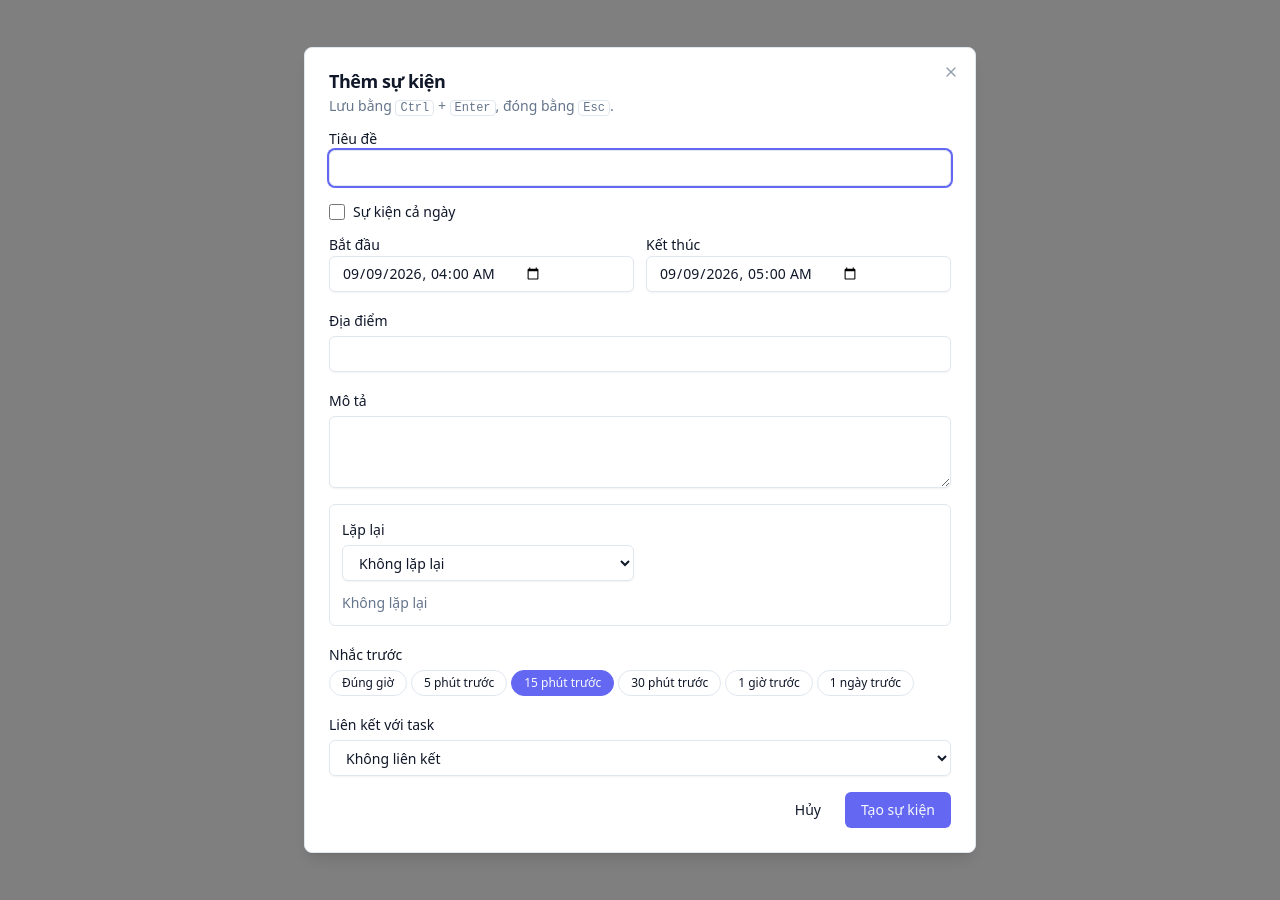
Test: EventFormDialog › tiêu đề rỗng hiện lỗi inline và KHÔNG gọi API
Click the button "Tạo sự kiện": click(898, 810) [845,792,951,828]
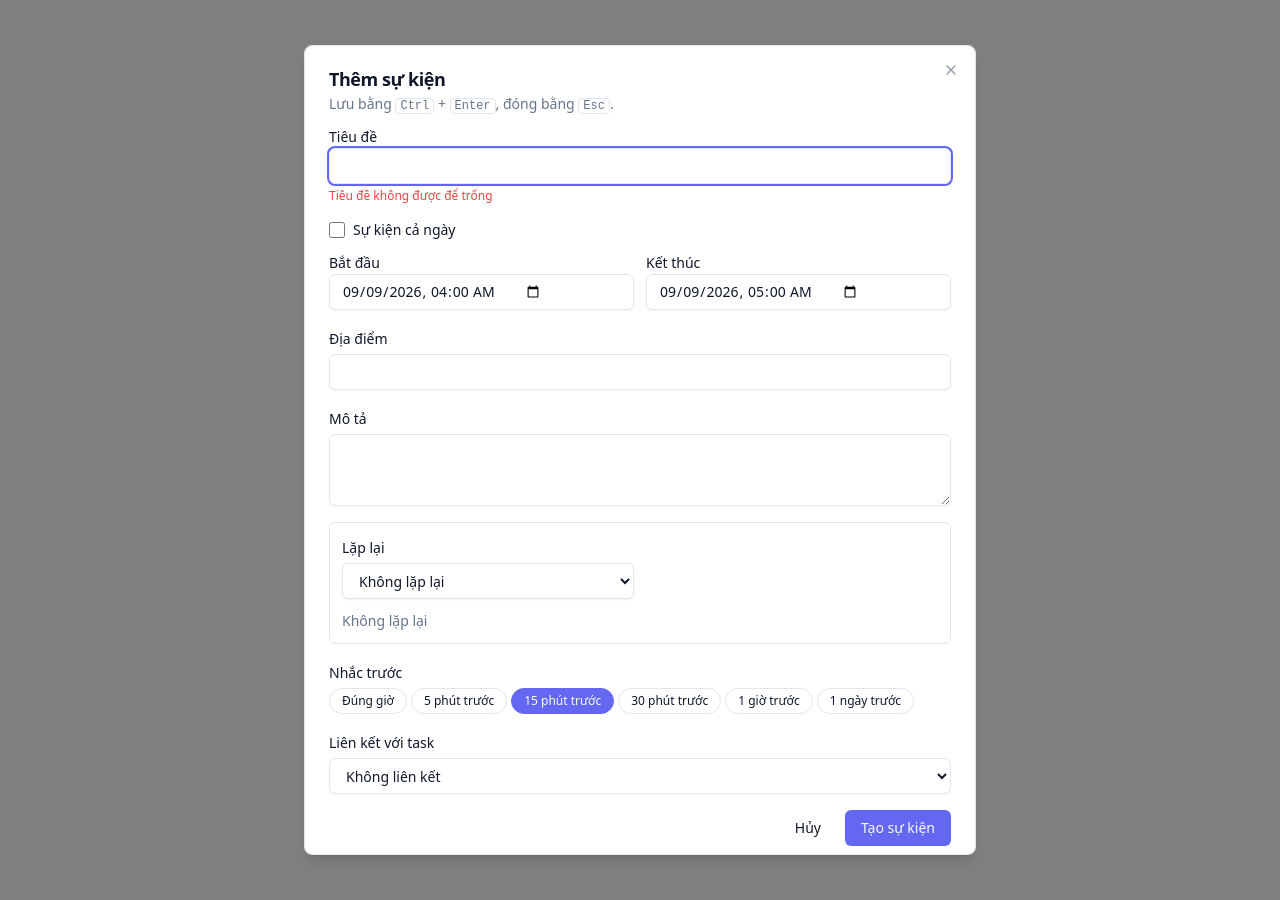
Now the text "Tiêu đề không được để trống" is shown, box [329,187,492,204]
